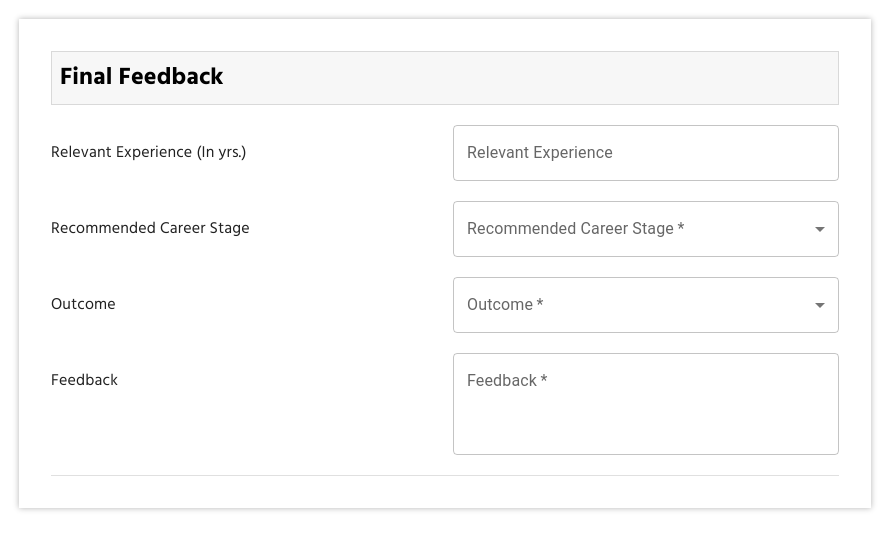
Final Feedback › feedback on empty
In the text box labelled "Feedback *": (646, 404) [467,370,825,438], type "ABC"
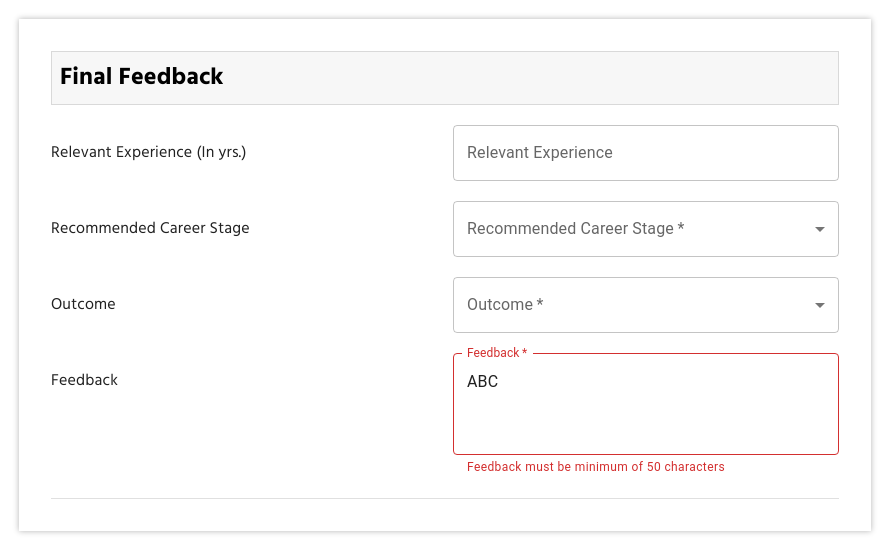
Clear the text box labelled "Feedback *": (646, 404) [467,370,825,438]
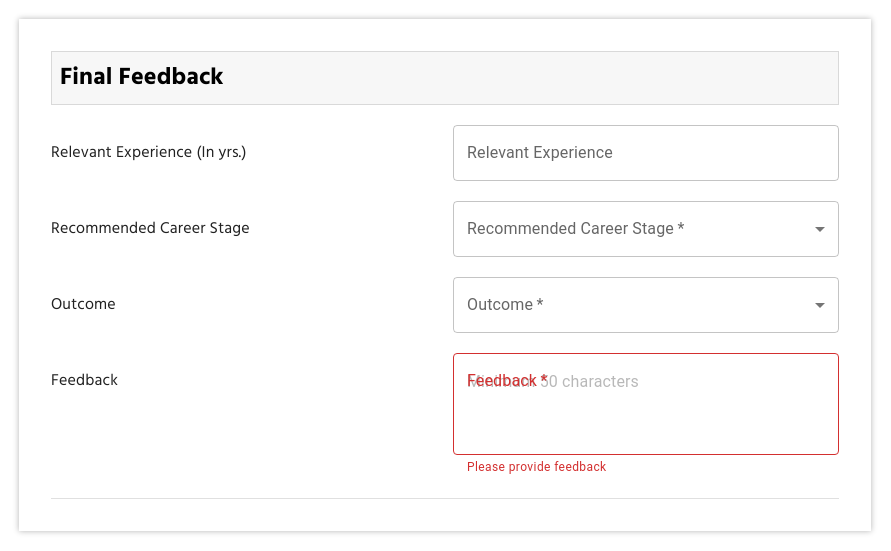
Check: the text "Please provide feedback" is shown, box [467,460,606,474]
